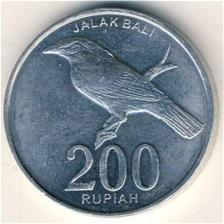coin_200_e2003: (3, 5, 214, 219)
